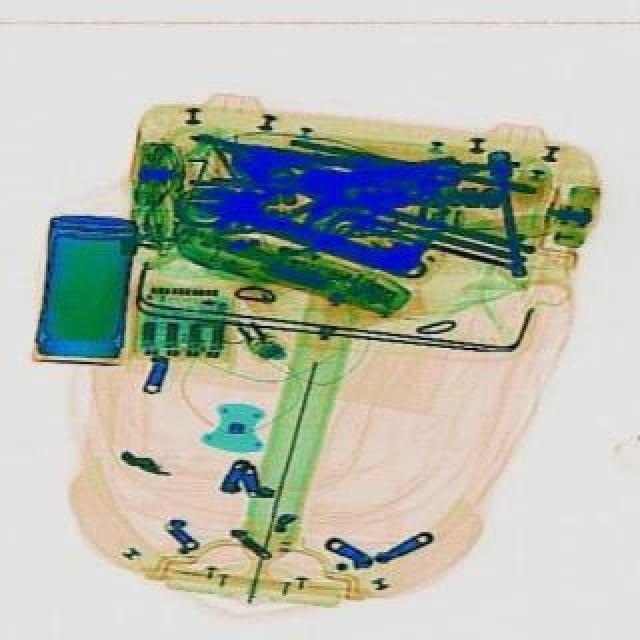scissors: (188, 178, 430, 286)
